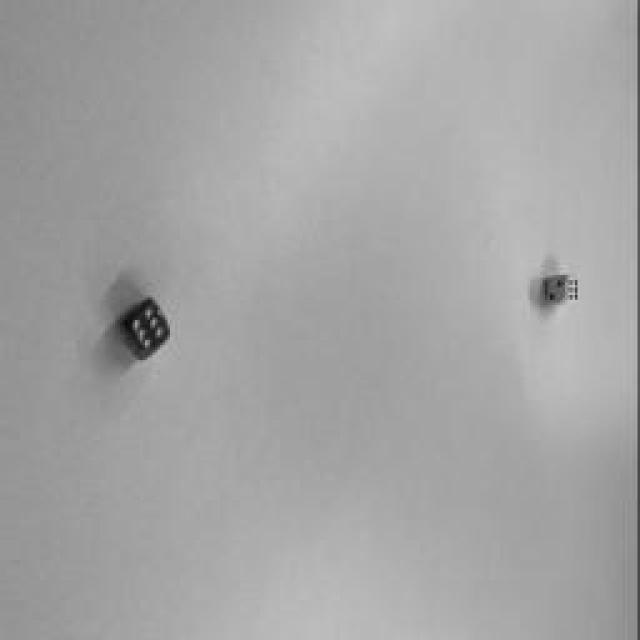dice_6: (126, 304, 169, 356), (568, 275, 580, 305)
